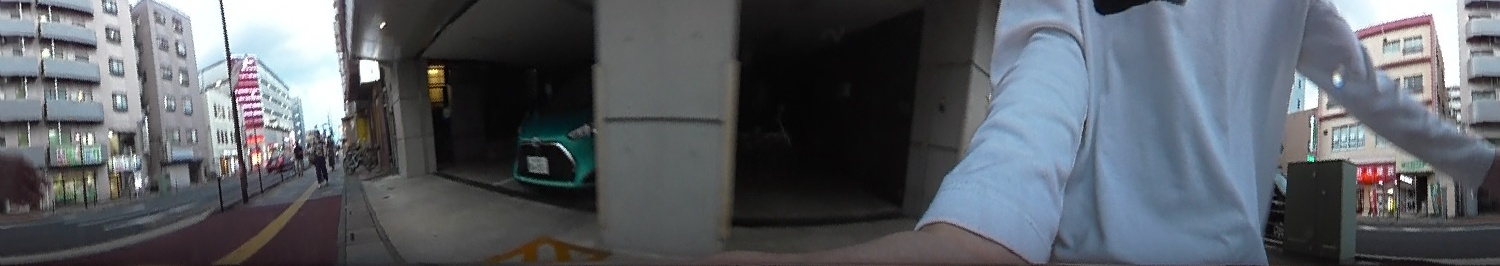difficult_person: (309, 127, 329, 184), (325, 129, 337, 172), (293, 140, 304, 177)
